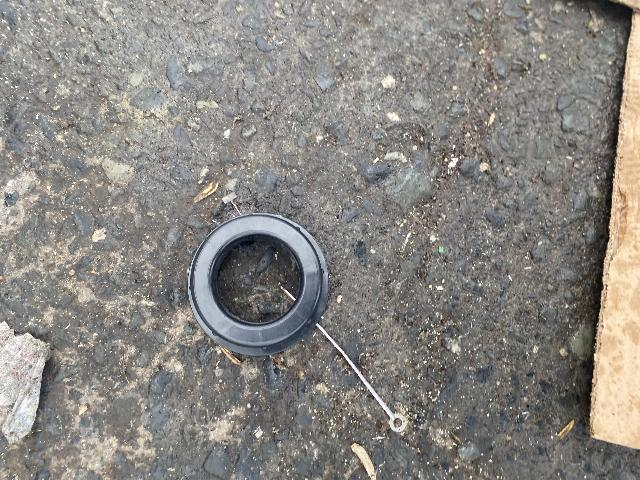Plastik: (183, 219, 327, 356)
